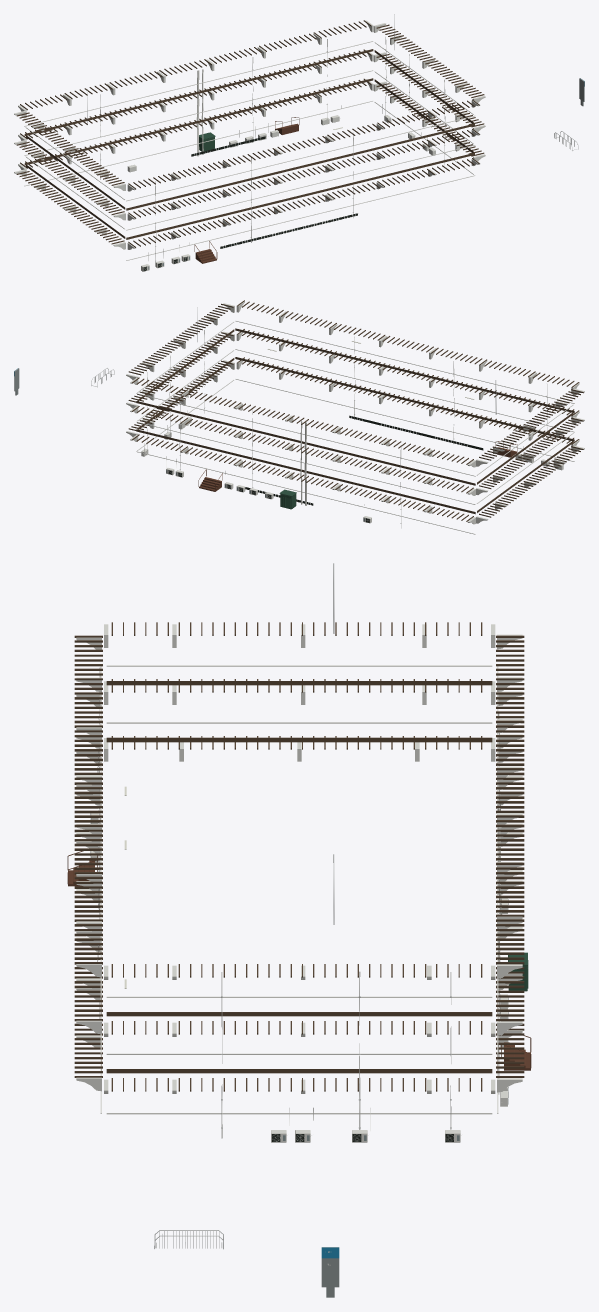
File: detalles.glb
3 renders of one model, top to bottom at view 1: azimuth 30°, elevation 25°; view 2: azimuth 150°, elevation 25°; view 3: azimuth 270°, elevation 25°, orthographic. The views are drawn at different scales.
Parts seen in each view (by area): view 1: Dark stained roof timber, Fresh cream trim, Dark ventilation recess, Brown painted service access; view 2: Dark stained roof timber, Fresh cream trim, Dark ventilation recess, Brown painted service access, Galvanized guardrail; view 3: Dark stained roof timber, Fresh cream trim, Galvanized guardrail, Brown painted service access.
Boxes of the visible parts, bbox=[...] form: Dark stained roof timber: bbox=[16, 20, 484, 247]; Fresh cream trim: bbox=[14, 20, 485, 271]; Dark ventilation recess: bbox=[143, 136, 357, 271]; Brown painted service access: bbox=[194, 117, 299, 263]; Dark stained roof timber: bbox=[128, 300, 583, 521]; Fresh cream trim: bbox=[126, 301, 584, 534]; Dark ventilation recess: bbox=[168, 415, 483, 522]; Brown painted service access: bbox=[198, 441, 517, 491]; Galvanized guardrail: bbox=[91, 307, 547, 523]; Dark stained roof timber: bbox=[74, 622, 524, 1091]; Fresh cream trim: bbox=[76, 624, 522, 1265]; Galvanized guardrail: bbox=[99, 563, 499, 1249]; Brown painted service access: bbox=[67, 851, 531, 1070].
Size of the model in its own units: 68.8 by 17 by 26.93.
